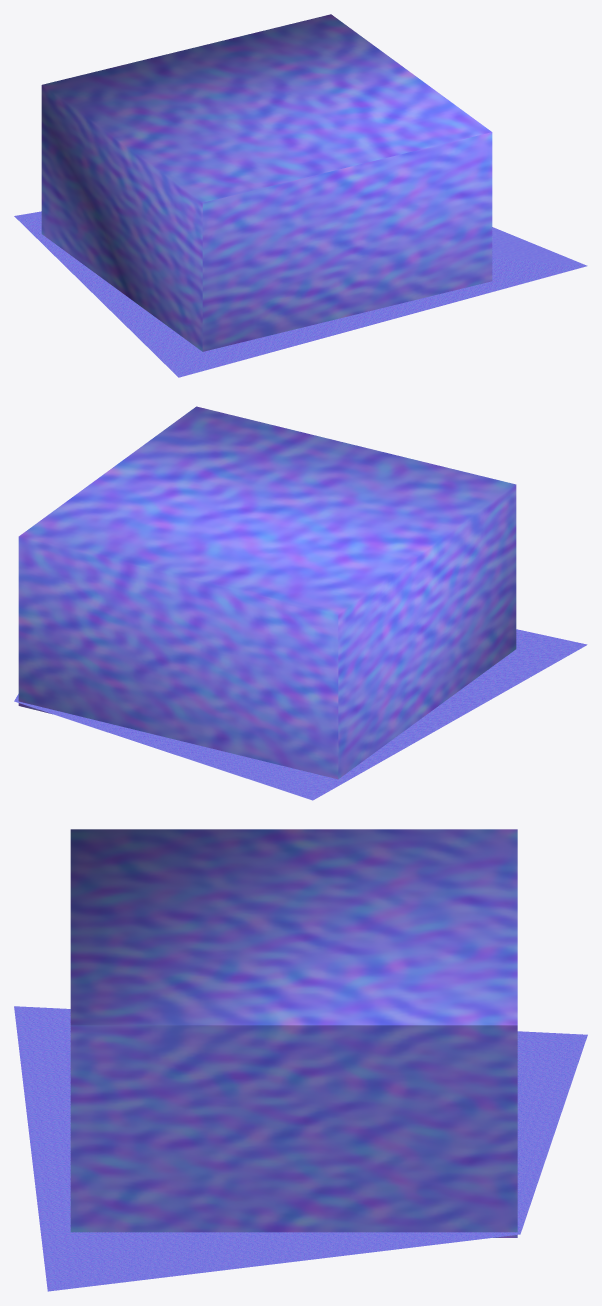
File: sky.obj
3 renders of one model, top to bottom at view 1: azimuth 30°, elevation 25°; view 2: azimuth 150°, elevation 25°; view 3: azimuth 270°, elevation 25°, orthographic. The views are drawn at different scales.
Size of the model in its own units: 200 by 69.66 by 170.
2 materials, 2 textured.
